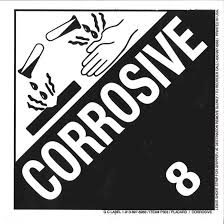Corrosive: (12, 7, 214, 210)
